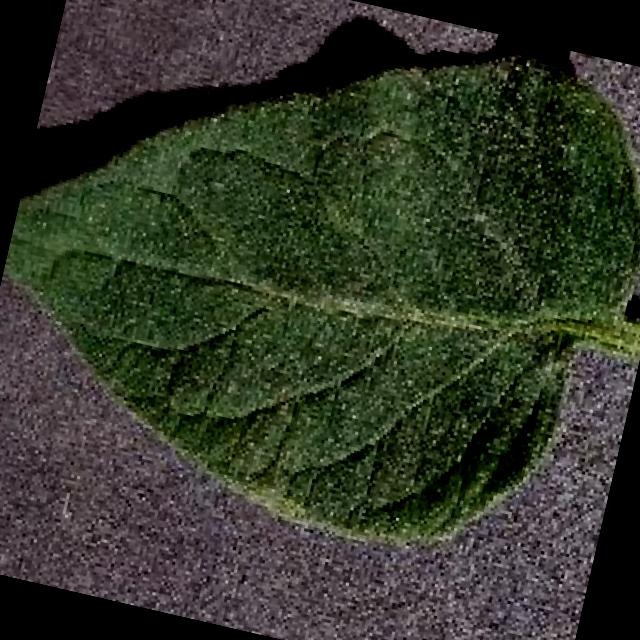healthy: (3, 54, 640, 549)
